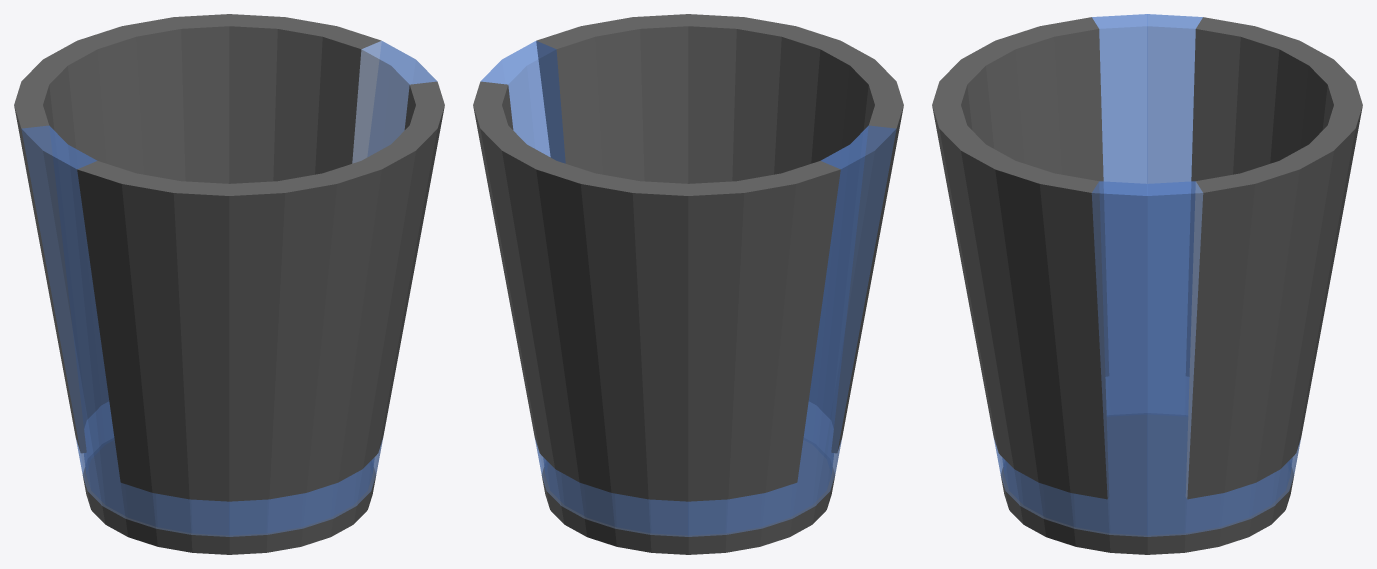
The model's file is Beerpong_Cup.fbx.
3 renders of one model, left to right at view 1: azimuth 30°, elevation 25°; view 2: azimuth 150°, elevation 25°; view 3: azimuth 270°, elevation 25°, orthographic.
Parts seen in each view (by area): view 1: Model; view 2: Model; view 3: Model.
Part boxes in pixels (x1,y1,x2,y2): Model: (14,14,444,554); Model: (473,14,903,554); Model: (932,14,1362,554).
Bounding box in the file's own units: 3.01 × 3 × 3.01.
